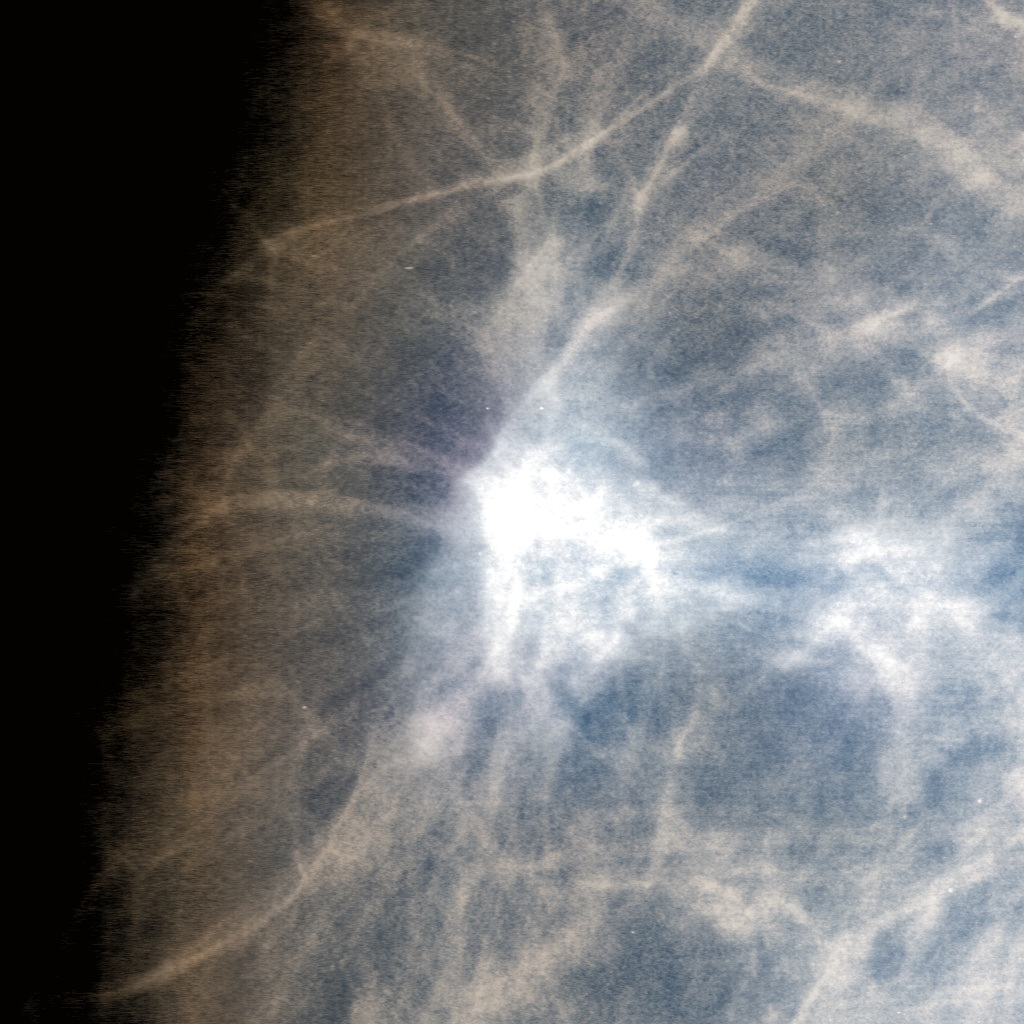tumor: (311, 314, 713, 710)
